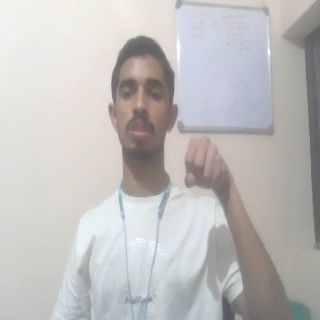Face: (107, 35, 179, 155)
Yes: (182, 136, 235, 201)
